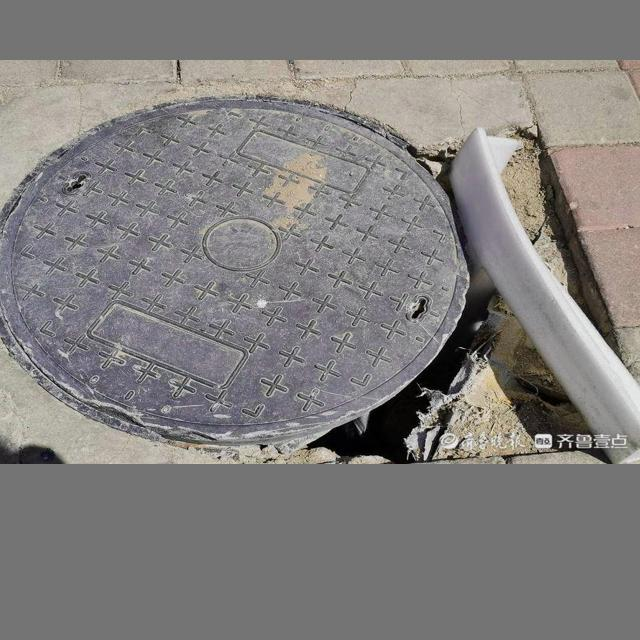circle: (6, 97, 593, 452)
